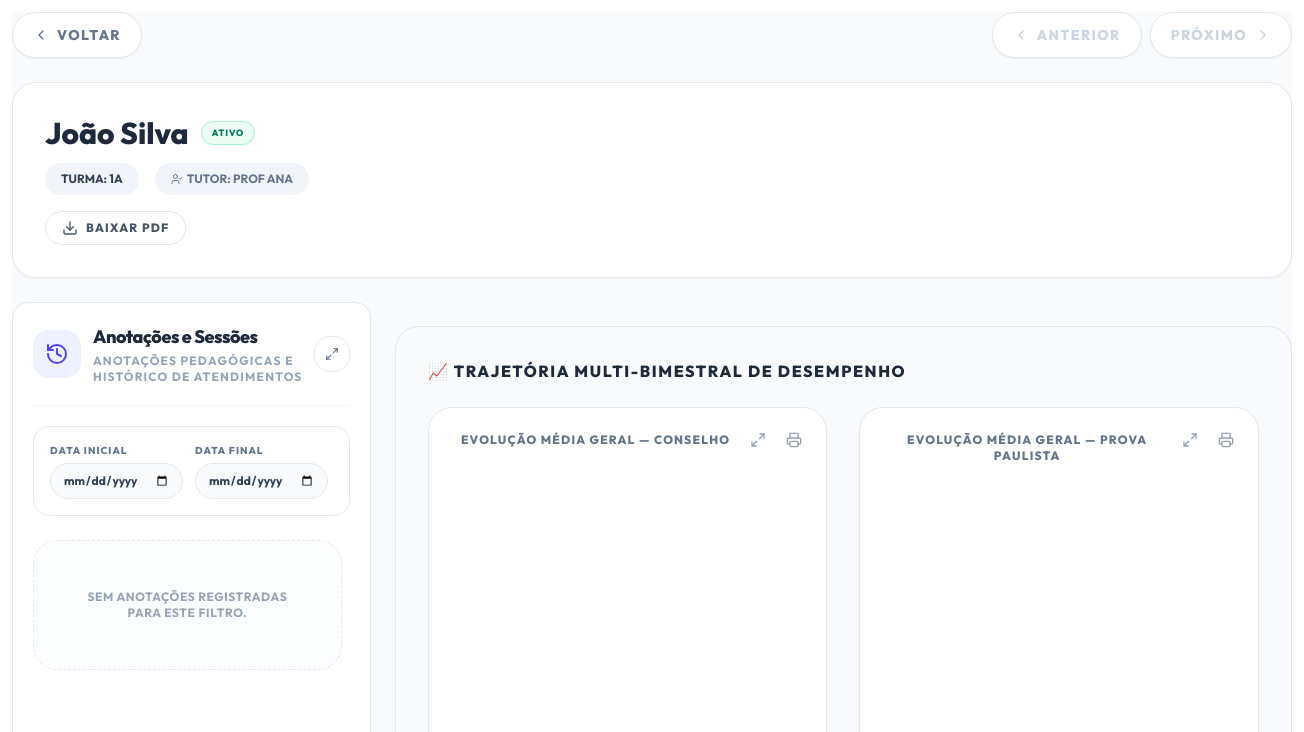
StudentProfile — período das ocorrências › informa quando o intervalo é inválido
This screenshot has width=1304, height=732.
Type "2024-04-20" into the date field named "Data inicial das ocorrências".
click(116, 481); type("2024-04-20")  # box [50,463,183,499]
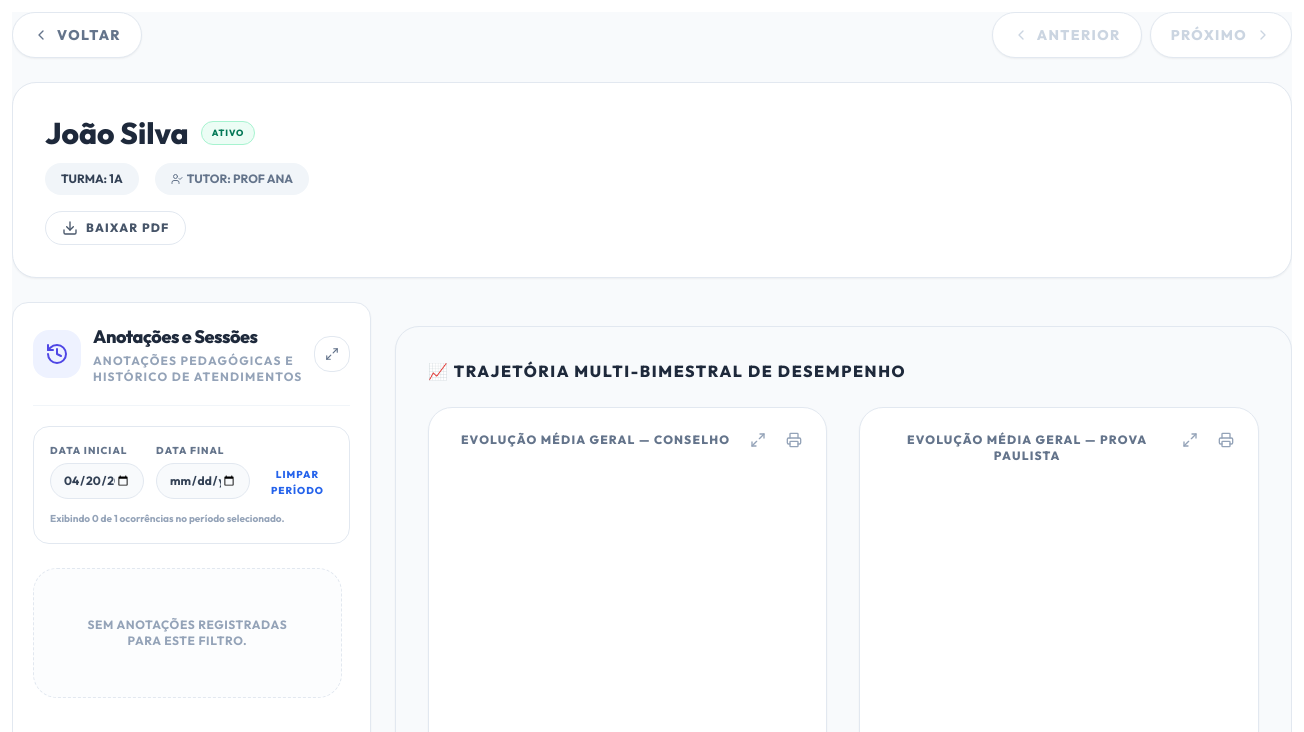
Type "2024-04-10" into the date field named "Data final das ocorrências".
click(203, 481); type("2024-04-10")  # box [156,463,250,499]
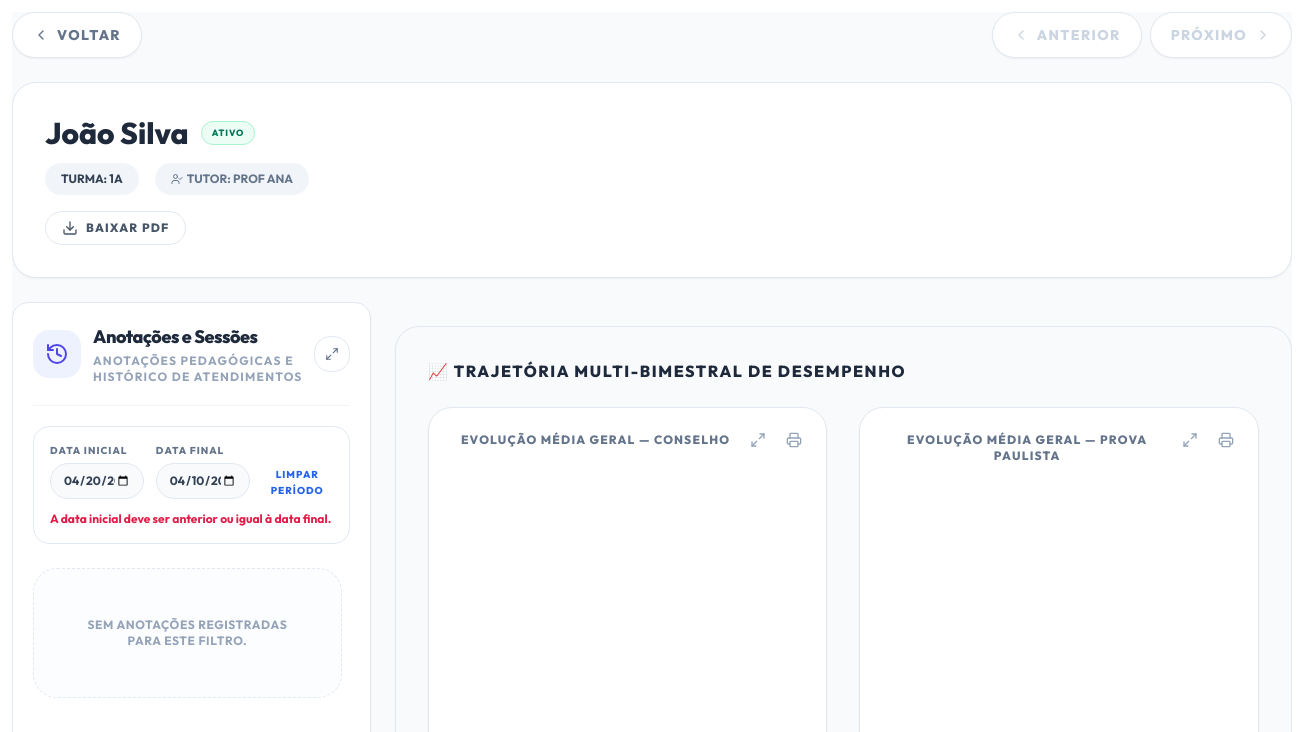
expect the message shows "data inicial deve ser anterior": met, box [50,511,331,526]
